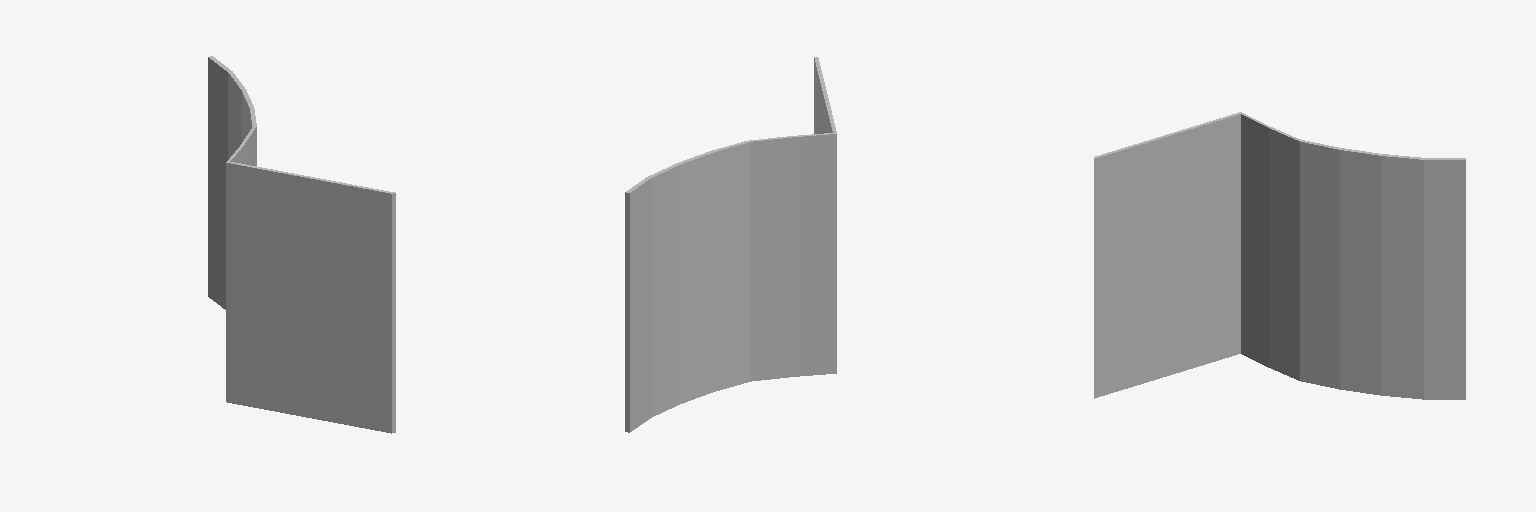
Rendered from wall_03.obj.
3 views of the same model, side by side, from view 1: azimuth 30°, elevation 25°; view 2: azimuth 150°, elevation 25°; view 3: azimuth 270°, elevation 25° (orthographic).
Visible parts, largest first — view 1: wall wall_03; view 2: wall wall_03; view 3: wall wall_03.
Boxes of the visible parts, x1,y1,x2,y2 form: wall wall_03: [208, 56, 395, 433]; wall wall_03: [625, 57, 836, 432]; wall wall_03: [1094, 112, 1465, 399].
Size of the model in its own units: 3.19 by 7.35 by 10.36.